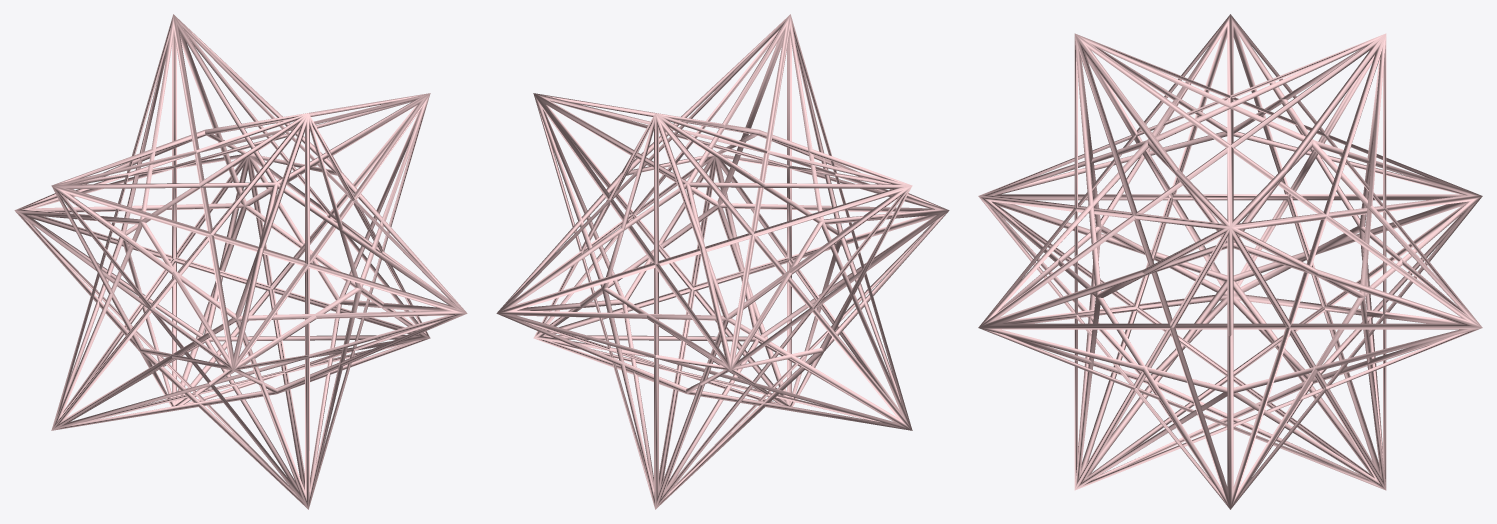
File: SmallStellapentakisDodecahedron2.glb
3 views of the same model, side by side, from view 1: azimuth 30°, elevation 25°; view 2: azimuth 150°, elevation 25°; view 3: azimuth 270°, elevation 25° (orthographic). The views are drawn at different scales.
Parts seen in each view (by area): view 1: SmallStellapentakisDodecahedron; view 2: SmallStellapentakisDodecahedron; view 3: SmallStellapentakisDodecahedron.
Part boxes in pixels (x1,y1,x2,y2): SmallStellapentakisDodecahedron: [14, 14, 467, 509]; SmallStellapentakisDodecahedron: [496, 14, 949, 509]; SmallStellapentakisDodecahedron: [978, 14, 1482, 509].
Bounding box in the file's own units: 5.92 × 5.92 × 5.92.
